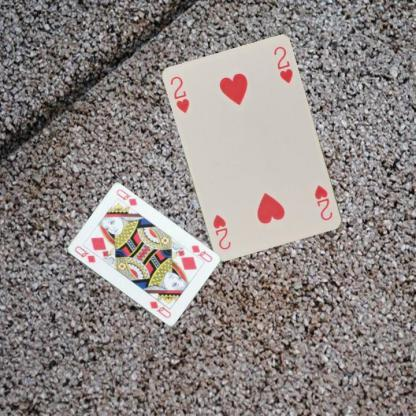2h: (168, 74, 191, 115), (312, 182, 335, 222)
Qd: (184, 243, 213, 264), (72, 243, 96, 264)
